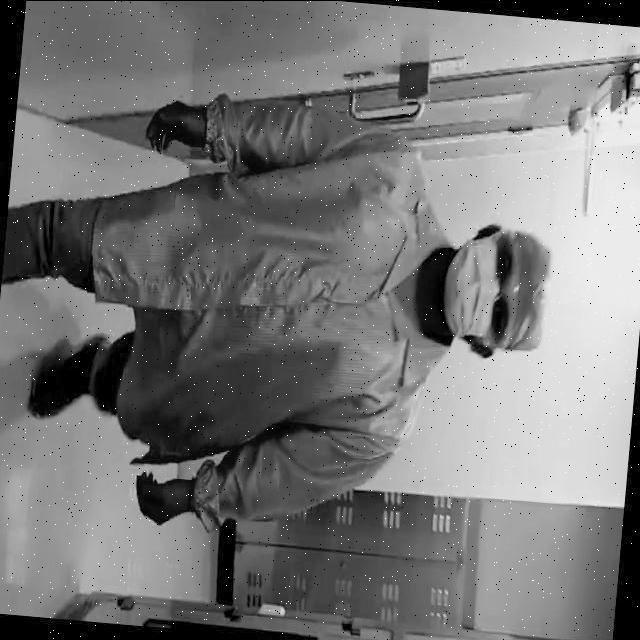gloves: (506, 226, 554, 352)
mask: (452, 240, 487, 334)
